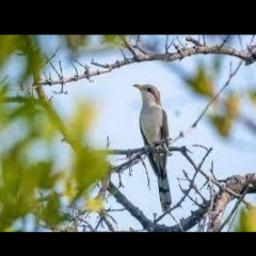Cuckoo: (132, 83, 172, 212)
